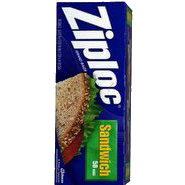grozi_28: (55, 2, 132, 185)
